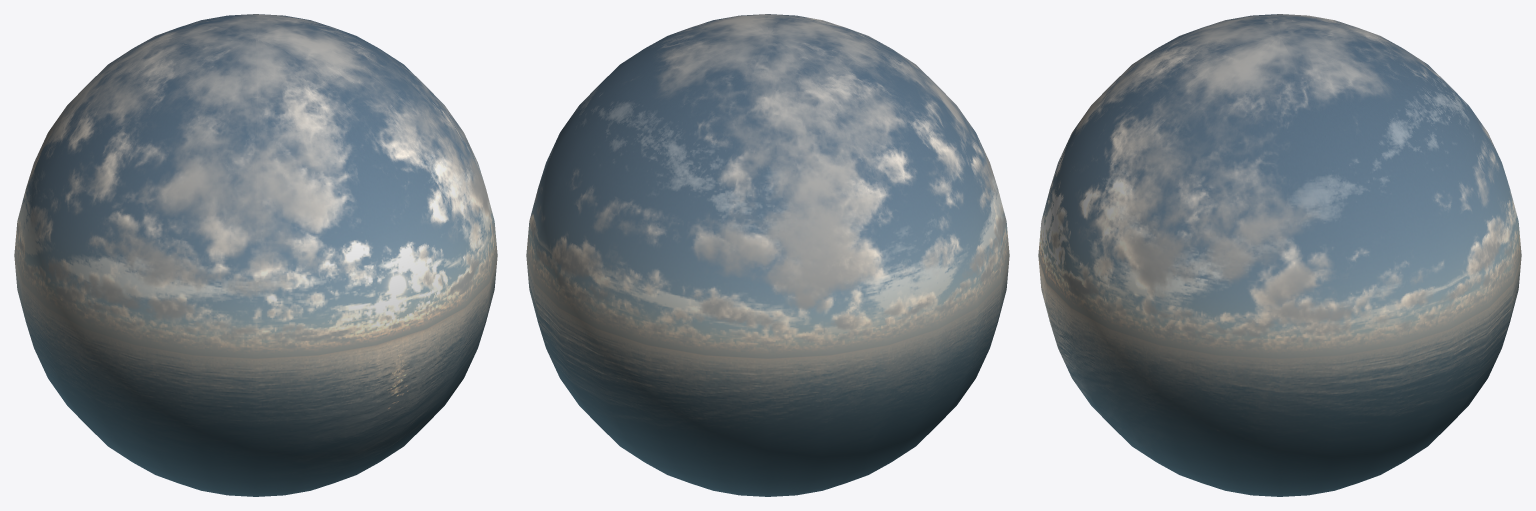
3 views of the same model, side by side, from view 1: azimuth 30°, elevation 25°; view 2: azimuth 150°, elevation 25°; view 3: azimuth 270°, elevation 25° (orthographic).
Visible parts, largest first — view 1: pSphere1; view 2: pSphere1; view 3: pSphere1.
Boxes of the visible parts, x1,y1,x2,y2 form: pSphere1: (14,14,497,496); pSphere1: (526,14,1009,496); pSphere1: (1038,14,1521,496).
Bounding box in the file's own units: 16.7 × 16.7 × 16.7.
1 material, 1 textured.
